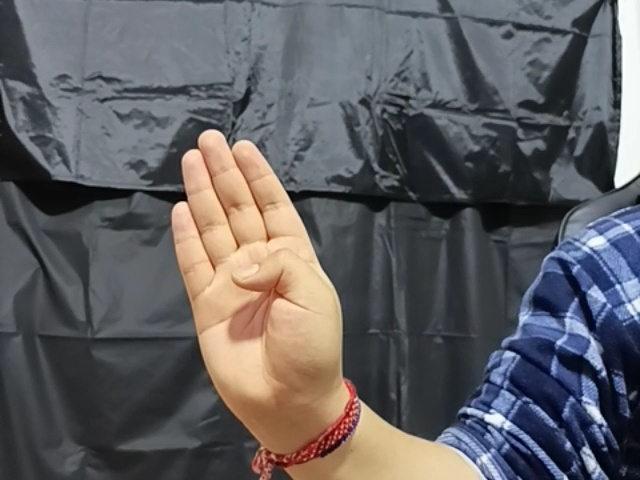B: (163, 123, 366, 406)
